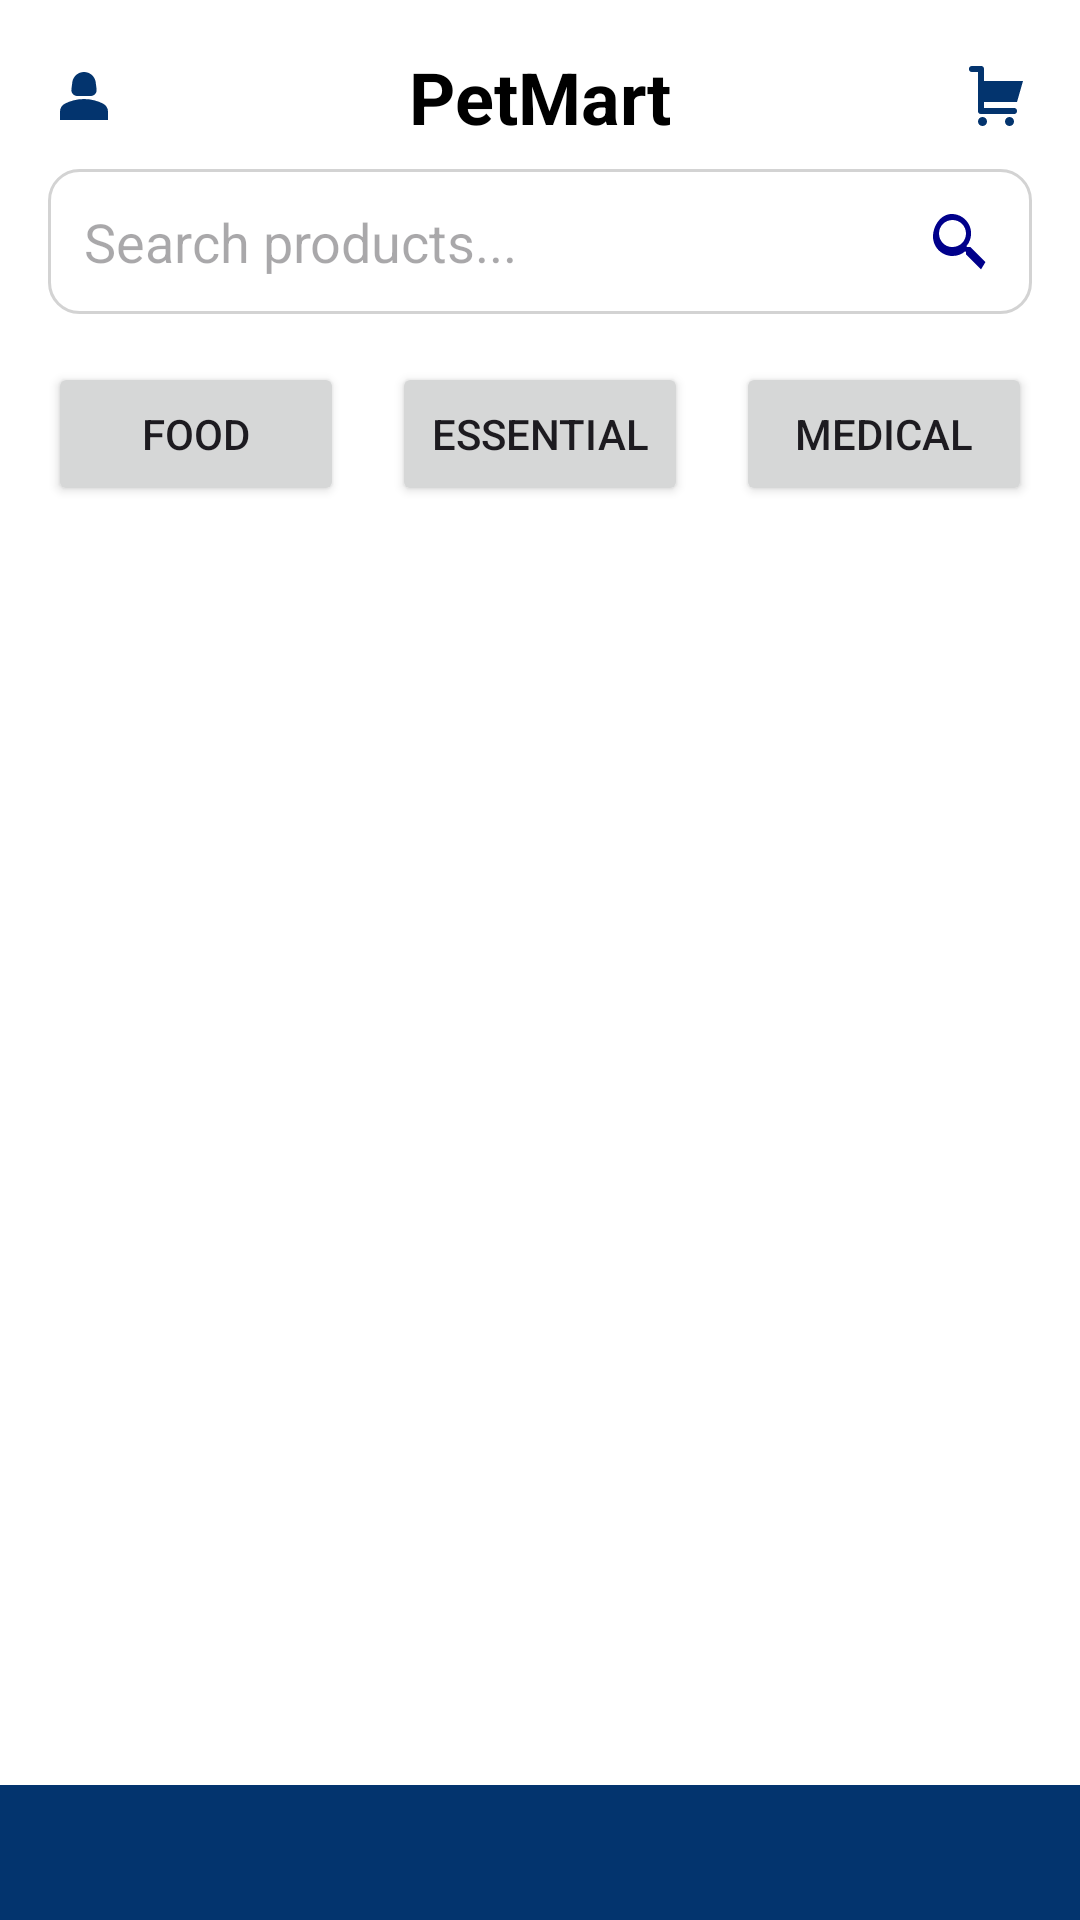

Point at icon controls on the screen. Image size 1080px x 1920px, points as (x,y).
cart: (996,96)
profile: (84,96)
